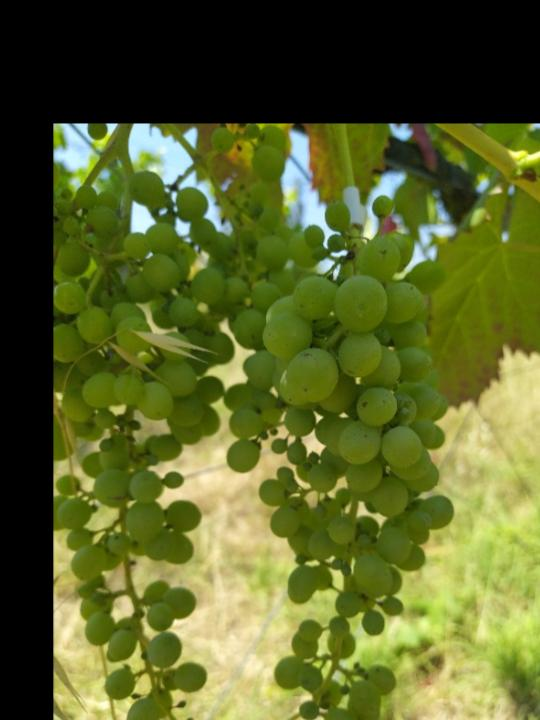grape: (226, 195, 459, 720)
